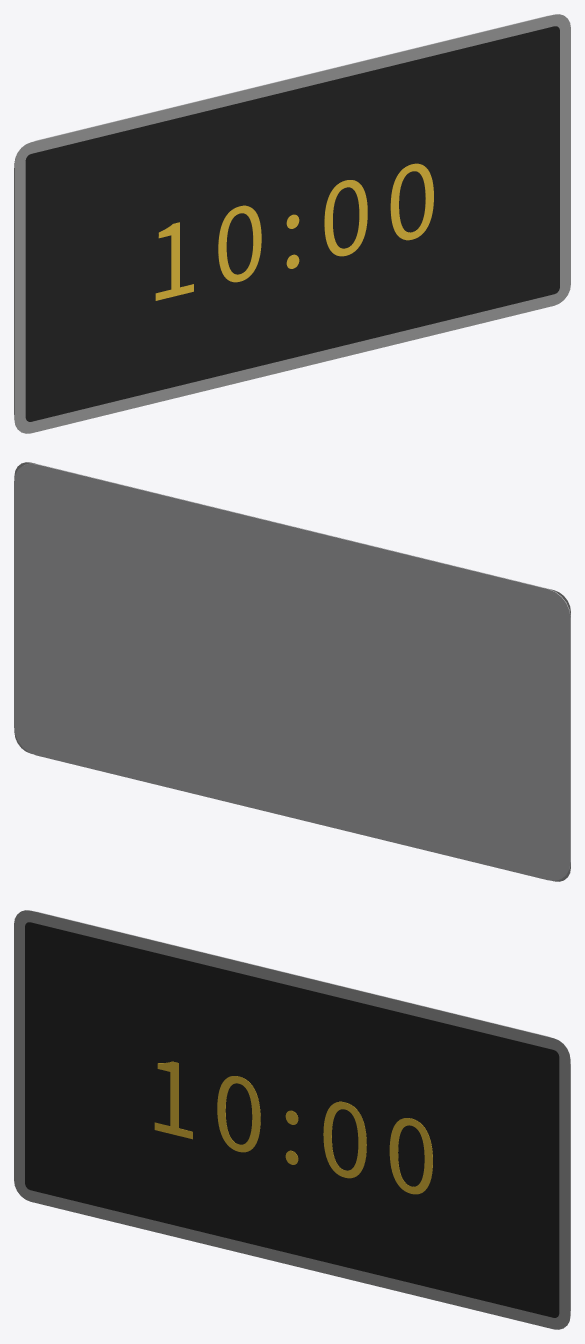
File: decompteur.glb
The picture shows the model from 3 angles, top to bottom: view 1: azimuth 30°, elevation 25°; view 2: azimuth 150°, elevation 25°; view 3: azimuth 330°, elevation 25°; orthographic projection.
Parts seen in each view (by area): view 1: decompteur_fond01, decompteur_cadre00, decompteur_txt02, decompteur_dos; view 2: decompteur_dos; view 3: decompteur_fond01, decompteur_cadre00, decompteur_txt02, decompteur_dos.
Boxes of the visible parts, x1,y1,x2,y2 form: decompteur_fond01: (25,26,559,421); decompteur_cadre00: (14,14,570,433); decompteur_txt02: (155,163,433,300); decompteur_dos: (14,15,548,414); decompteur_dos: (14,463,570,880); decompteur_fond01: (25,922,559,1317); decompteur_cadre00: (14,910,570,1329); decompteur_txt02: (154,1061,432,1194); decompteur_dos: (36,911,570,1310).
Bounding box in the file's own units: 1 × 0.5 × 0.0025.
